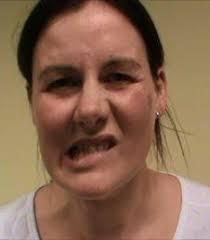strokeEyeMid: (43, 65, 145, 96)
strokeMouthSevere: (58, 132, 125, 167)
